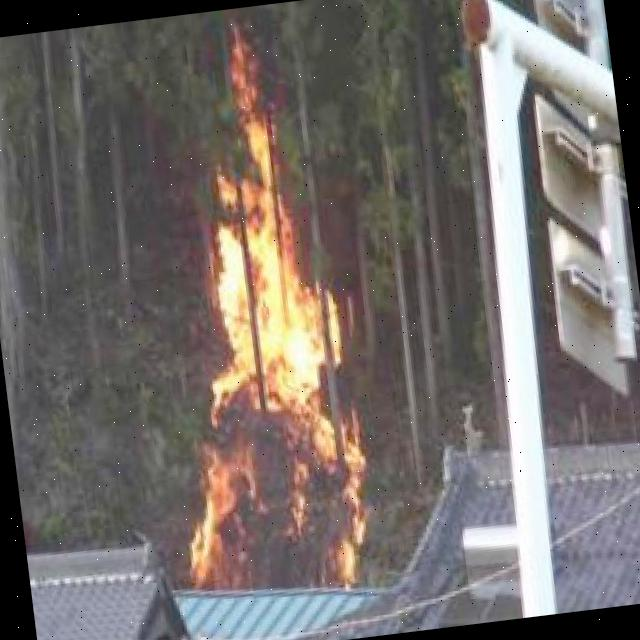fire: (134, 49, 376, 597)
